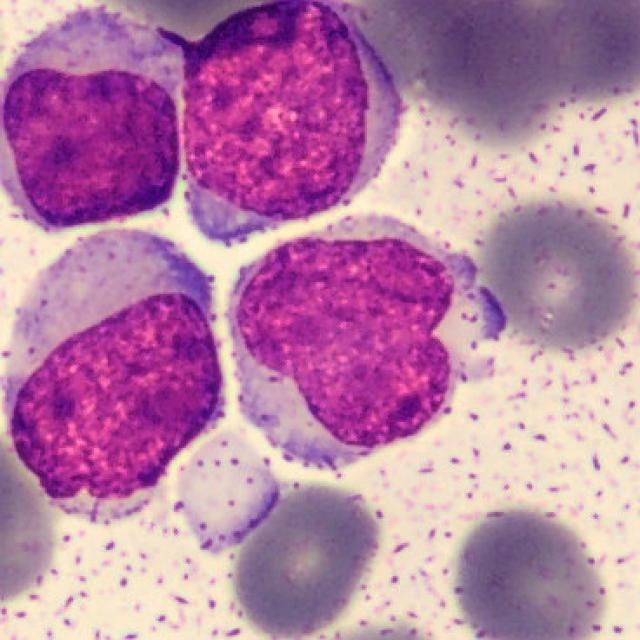Mieloblasto: (7, 235, 226, 524), (158, 2, 402, 247), (230, 225, 457, 472), (2, 9, 186, 230)
